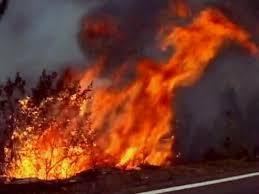fire: (66, 11, 252, 170)
